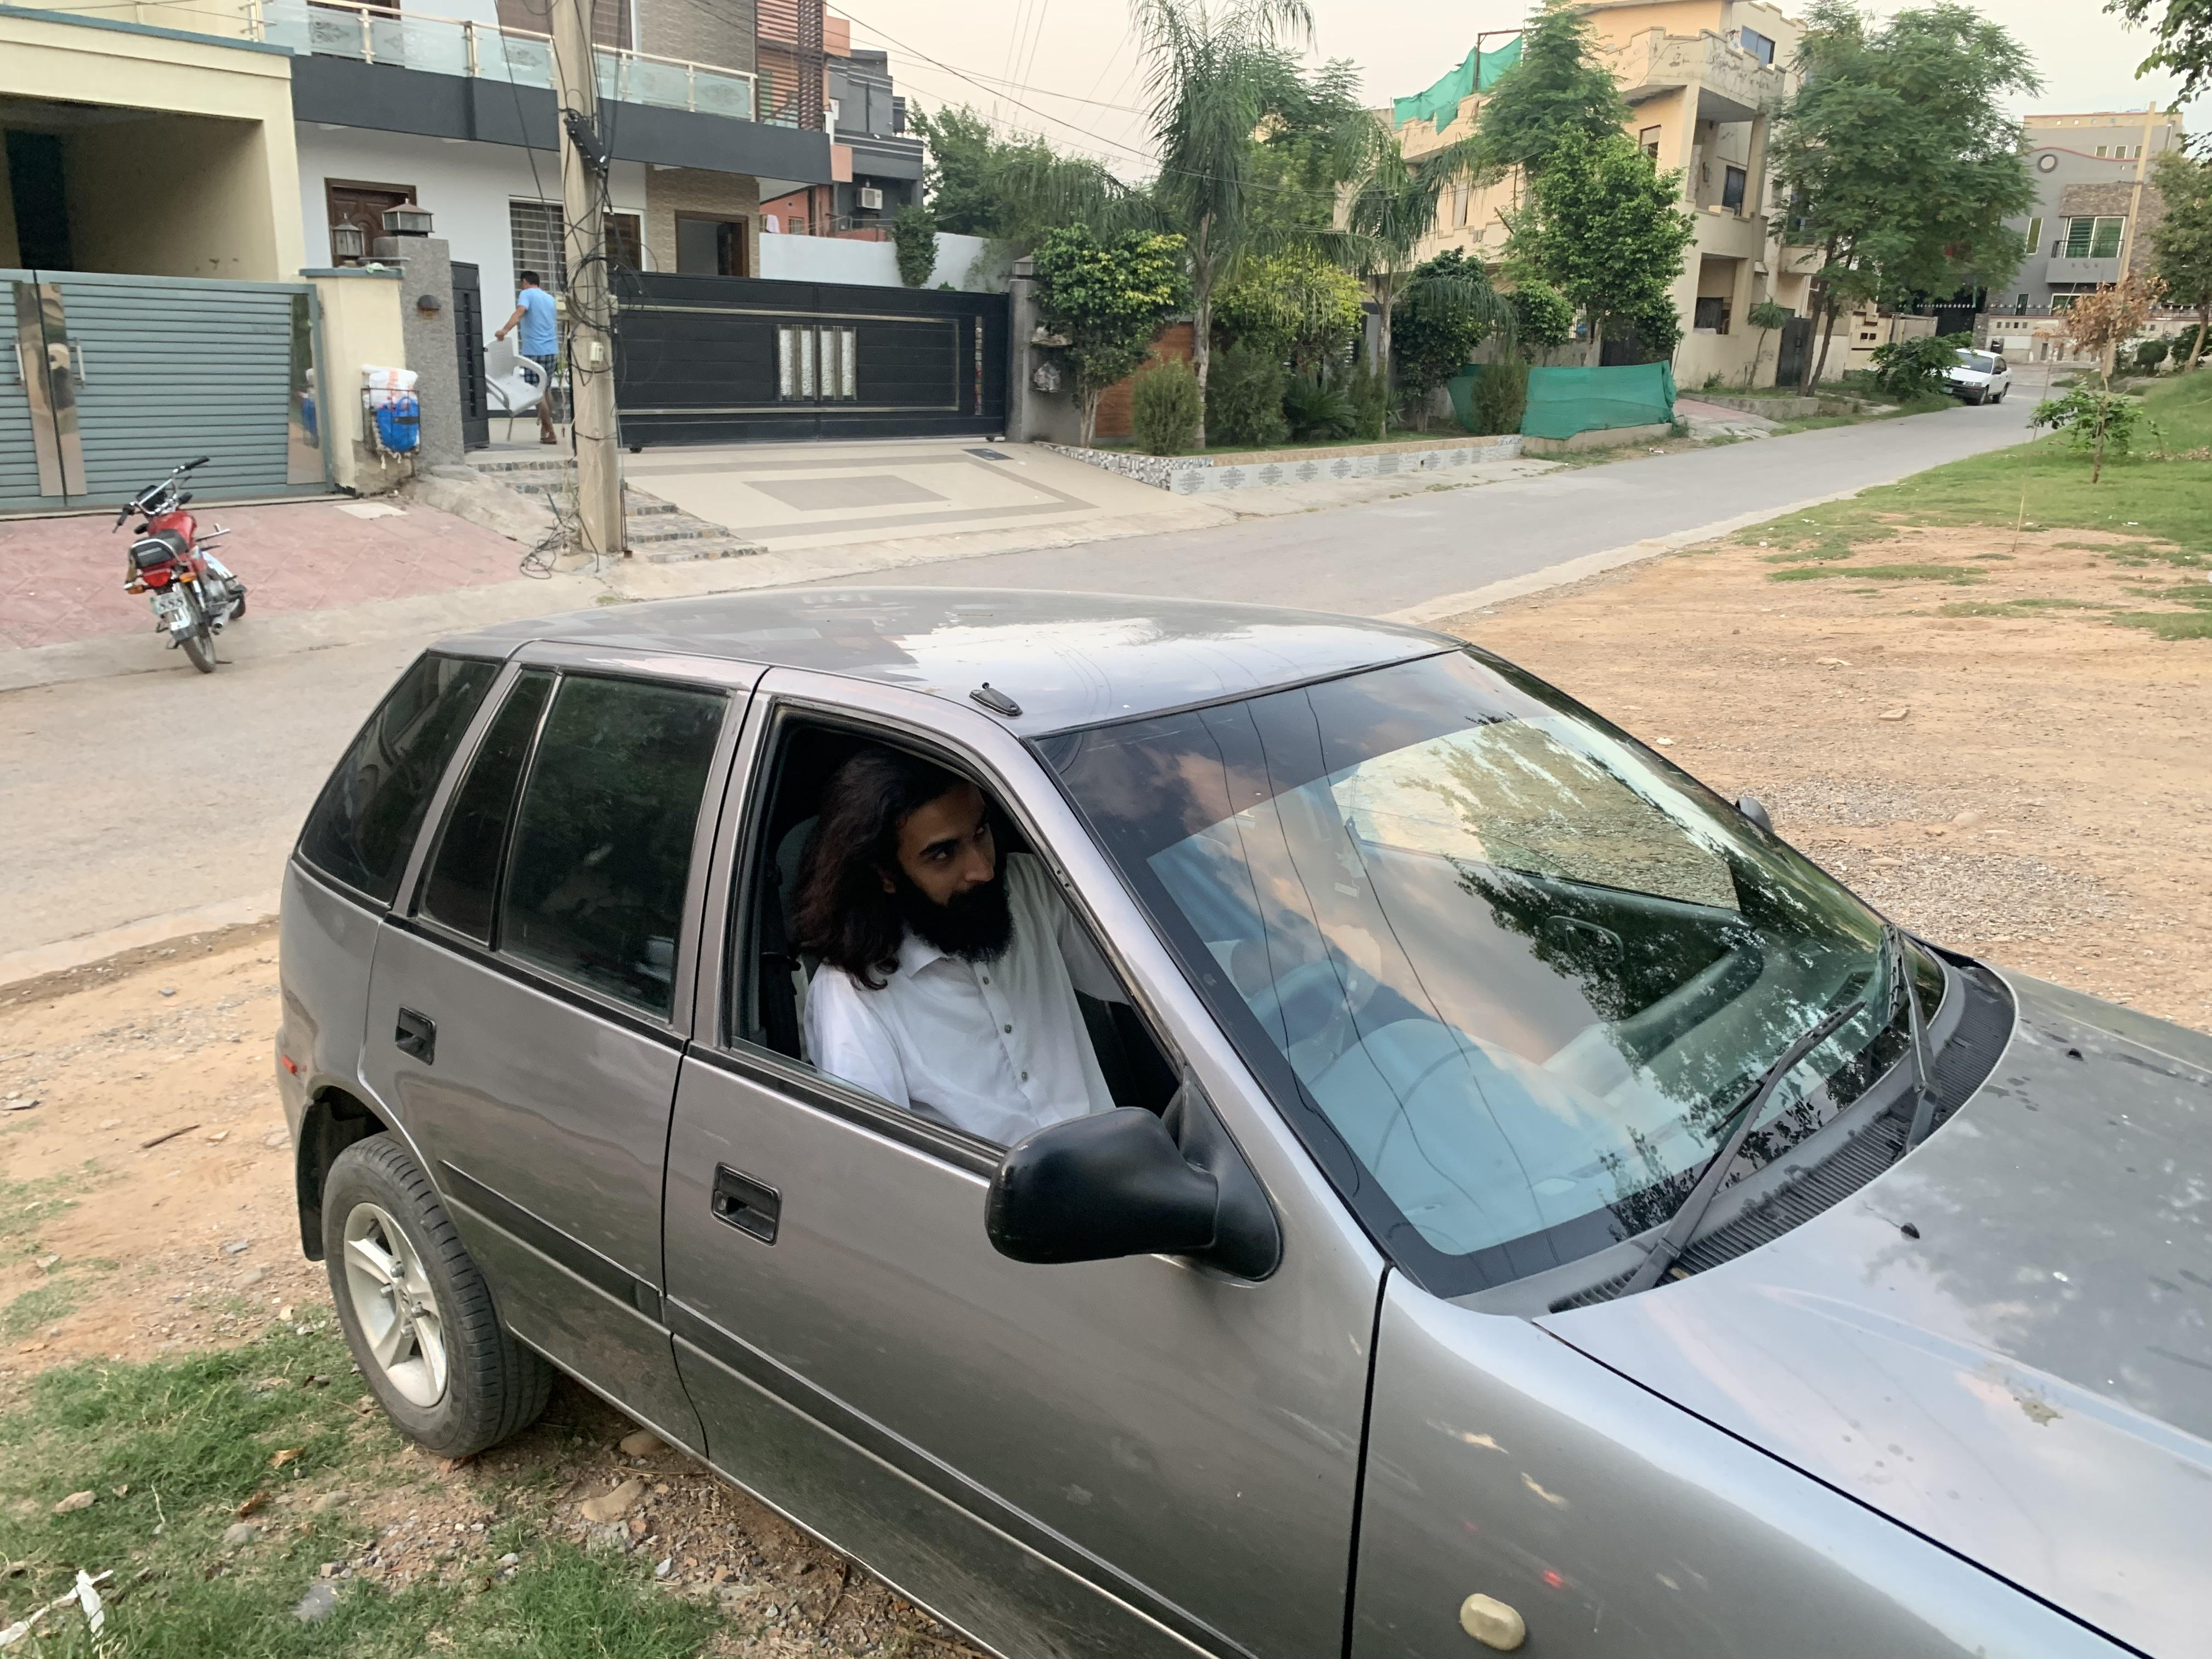windshield: (989, 626, 2036, 1338)
